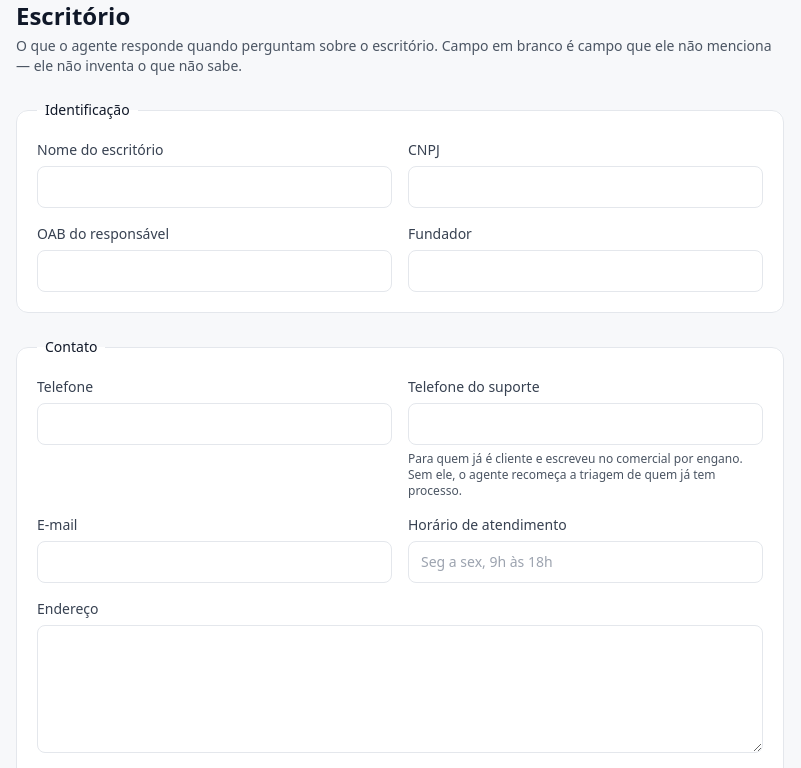
Scenario: dados do escritório › o administrador edita e salva
Type "Borges e Lopes" into the field labelled "Nome do escritório" at (214, 187), box x1=37 y1=166 x2=392 y2=208
(page scrolled)
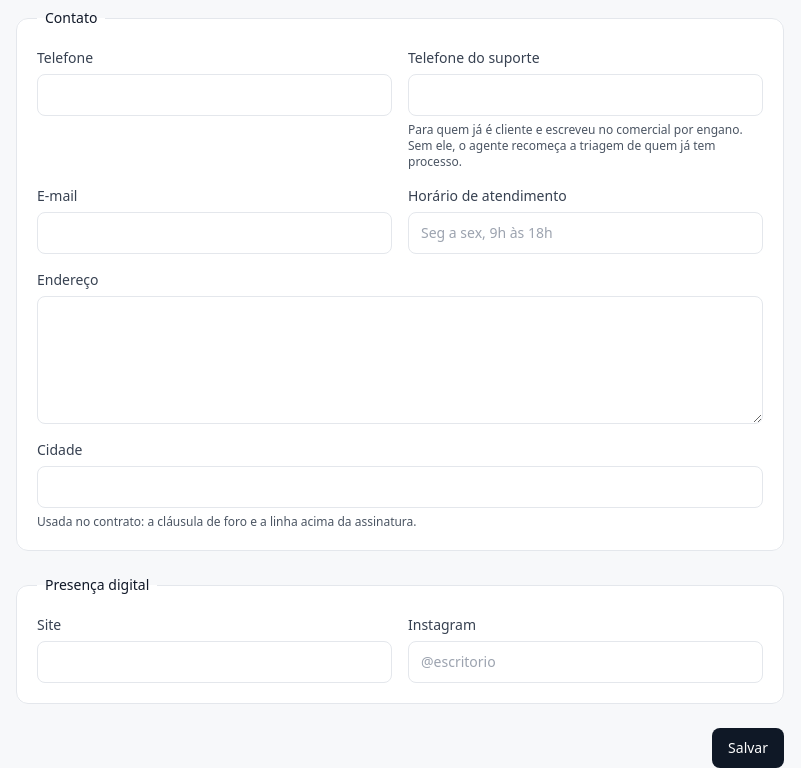
Click the button "Salvar" at (748, 748), box x1=712 y1=728 x2=784 y2=767
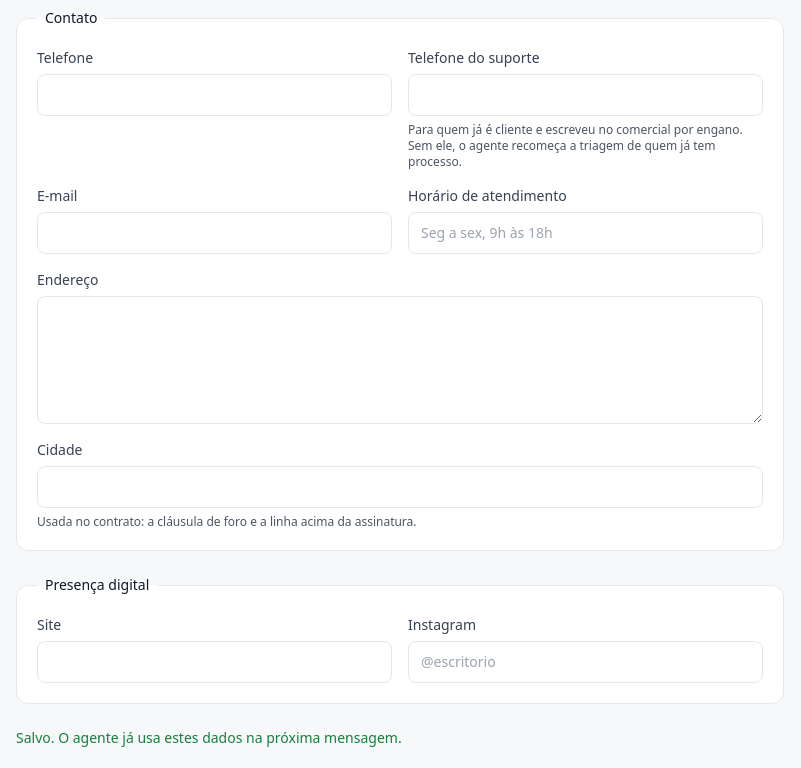
Expected: the message shows "Salvo", x1=16 y1=728 x2=402 y2=747
